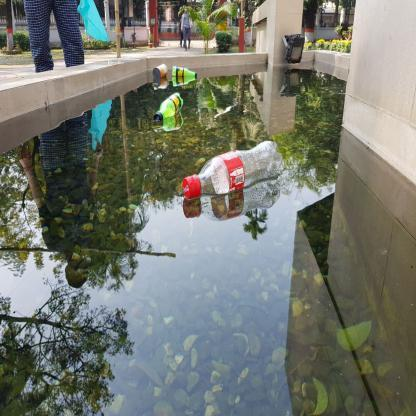can: (153, 63, 169, 78)
plastic bottle: (180, 137, 284, 199), (153, 92, 184, 123), (171, 67, 197, 78)
